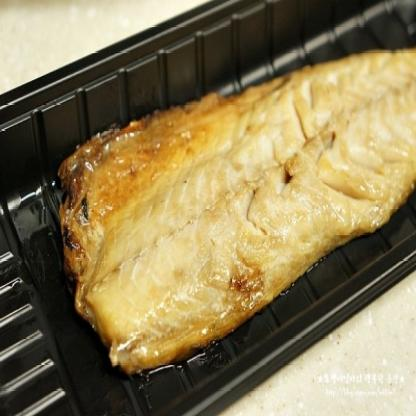Peixe: (50, 31, 416, 375)
